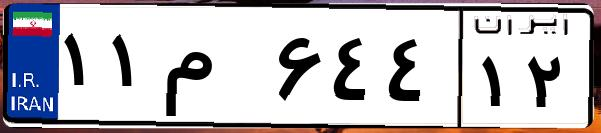1: (57, 26, 110, 100), (475, 38, 525, 113), (110, 28, 158, 98)
2: (525, 38, 570, 115)
4: (385, 28, 445, 110), (330, 28, 385, 110)
6: (270, 28, 330, 110)
م: (158, 20, 270, 120)
